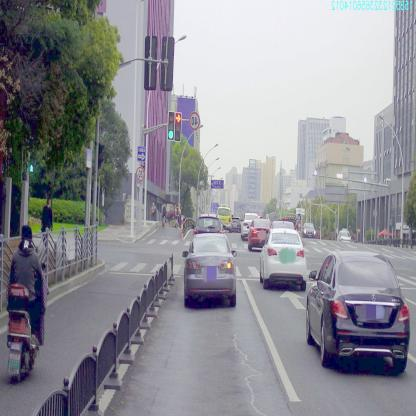traffic-light: (174, 112, 182, 141), (168, 111, 175, 140)
